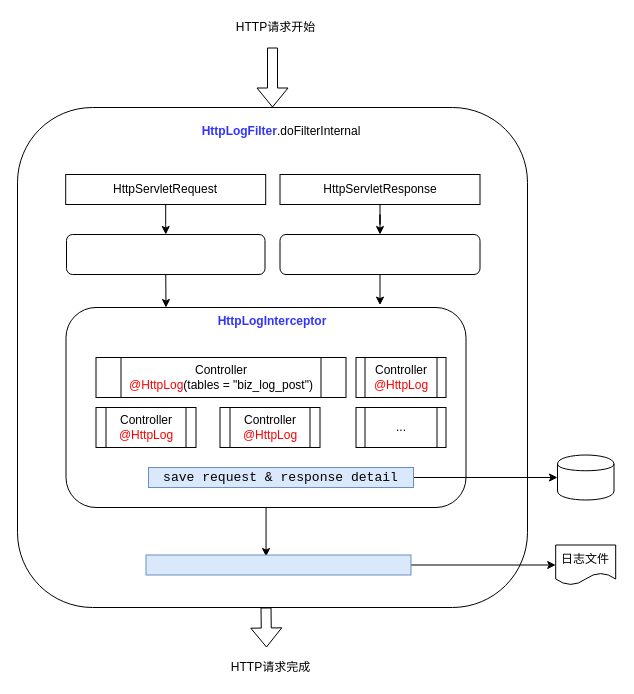
The diagram is 634 pixels wide and 694 high, and some of its shapes have lost their labels. The box of each missing label's shape, as (x1, y1, x2, y2) in pixels:
ContentCachingRequestWrapper: (66, 234, 265, 274)
ContentCachingResponseWrapper: (279, 234, 480, 274)
log request & response detail: (145, 554, 411, 575)
日志库: (556, 454, 614, 500)
